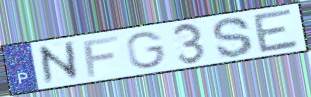3: (172, 20, 207, 67)
E: (251, 7, 302, 55)
F: (80, 34, 121, 79)
G: (124, 30, 168, 71)
N: (35, 39, 84, 87)
S: (210, 16, 256, 60)
